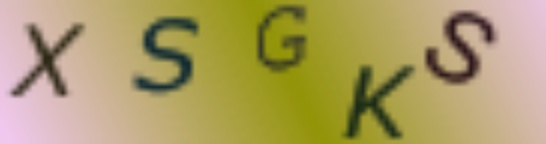G: (254, 1, 321, 75)
K: (339, 62, 414, 144)
S: (124, 11, 204, 96), (421, 9, 496, 87)
X: (7, 17, 90, 103)
